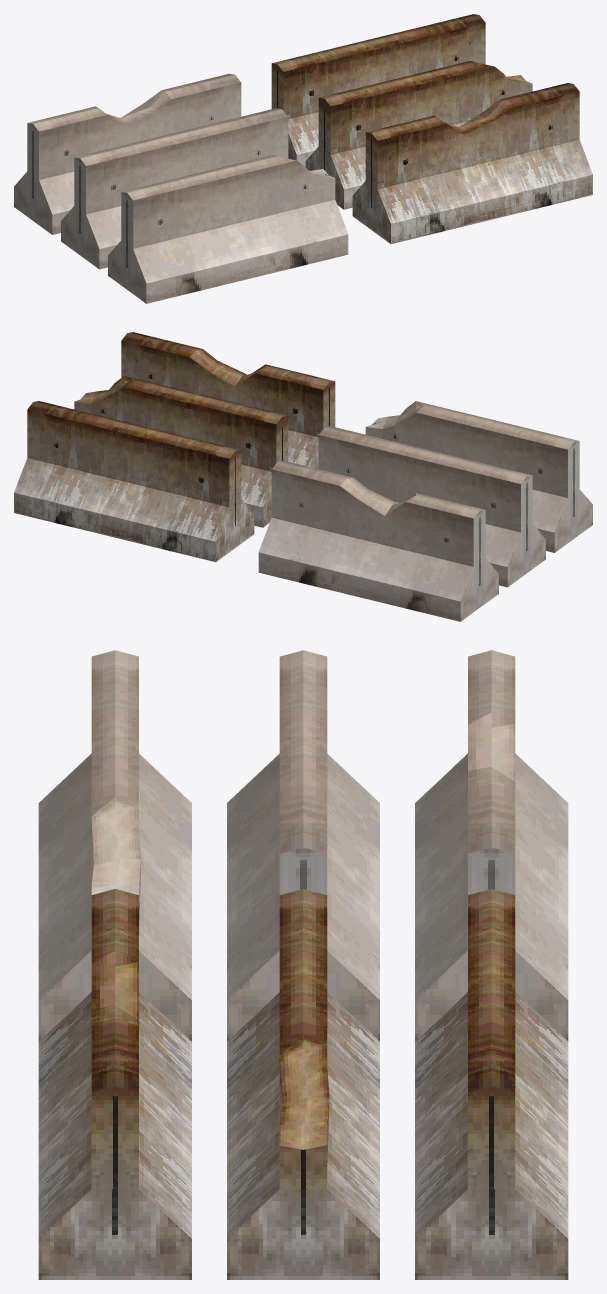
The model's file is Concrete Barriers.glb.
3 views of the same model, one above another, from view 1: azimuth 30°, elevation 25°; view 2: azimuth 150°, elevation 25°; view 3: azimuth 270°, elevation 25° (orthographic). The views are drawn at different scales.
Parts seen in each view (by area): view 1: Jersey_barrier_broken_center_dirty, Jersey_barrier_broken_edge, Jersey_barrier, Jersey_barrier_broken_center, Jersey_barrier_broken_edge_dirty, Jersey_barrier_dirty; view 2: Jersey_barrier_dirty, Jersey_barrier_broken_center, Jersey_barrier, Jersey_barrier_broken_edge, Jersey_barrier_broken_edge_dirty, Jersey_barrier_broken_center_dirty; view 3: Jersey_barrier_dirty, Jersey_barrier_broken_center_dirty, Jersey_barrier_broken_edge_dirty, Jersey_barrier_broken_edge, Jersey_barrier_broken_center, Jersey_barrier.
Boxes of the visible parts, x1,y1,x2,y2 form: Jersey_barrier_broken_center_dirty: [352, 83, 592, 243]; Jersey_barrier_broken_edge: [108, 155, 348, 303]; Jersey_barrier: [61, 108, 288, 269]; Jersey_barrier_broken_center: [14, 73, 241, 234]; Jersey_barrier_broken_edge_dirty: [305, 61, 532, 209]; Jersey_barrier_dirty: [271, 14, 485, 166]; Jersey_barrier_dirty: [14, 401, 254, 561]; Jersey_barrier_broken_center: [258, 460, 498, 621]; Jersey_barrier: [318, 426, 545, 587]; Jersey_barrier_broken_edge: [365, 401, 592, 552]; Jersey_barrier_broken_edge_dirty: [74, 376, 288, 527]; Jersey_barrier_broken_center_dirty: [121, 332, 335, 468]; Jersey_barrier_dirty: [415, 889, 568, 1279]; Jersey_barrier_broken_center_dirty: [38, 889, 191, 1279]; Jersey_barrier_broken_edge_dirty: [227, 889, 379, 1279]; Jersey_barrier_broken_edge: [38, 650, 191, 1041]; Jersey_barrier_broken_center: [415, 650, 568, 1041]; Jersey_barrier: [227, 650, 379, 1041].
Bounding box in the file's own units: 5.48 × 1.14 × 2.81.
1 material, 1 textured.
